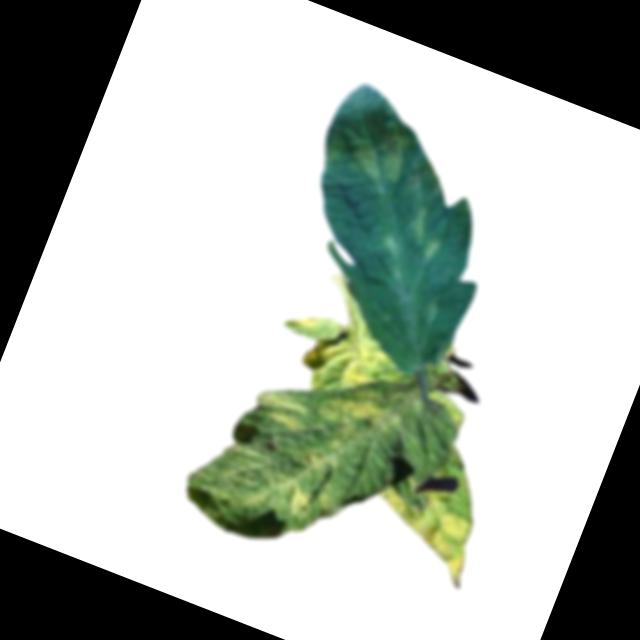Leaf_Mold: (355, 473, 489, 590), (270, 305, 393, 397), (328, 102, 420, 196), (317, 384, 404, 446), (260, 467, 325, 525), (399, 202, 454, 266), (247, 385, 311, 438), (298, 443, 345, 483)
